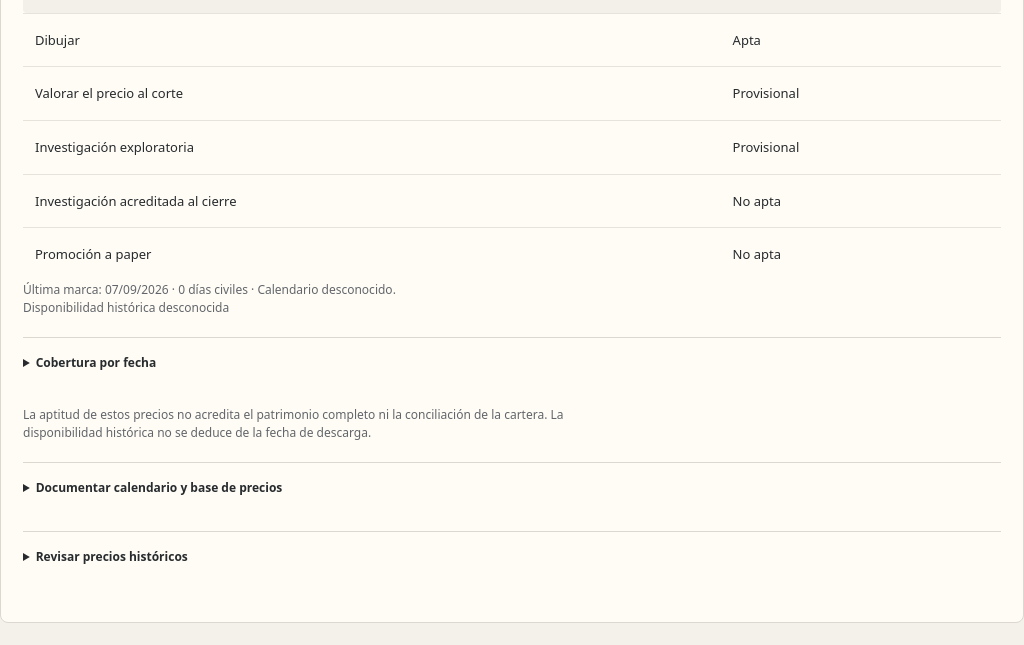
Test: un conflicto de confirmación exige nueva previsualización
The image size is (1024, 645).
(page scrolled)
What coordinates should you click on to do the following:
click the heading "Documentar calendario y base de precios"
I would click on:
 (159, 487)
Its box is [36,479,282,496].
(page scrolled)
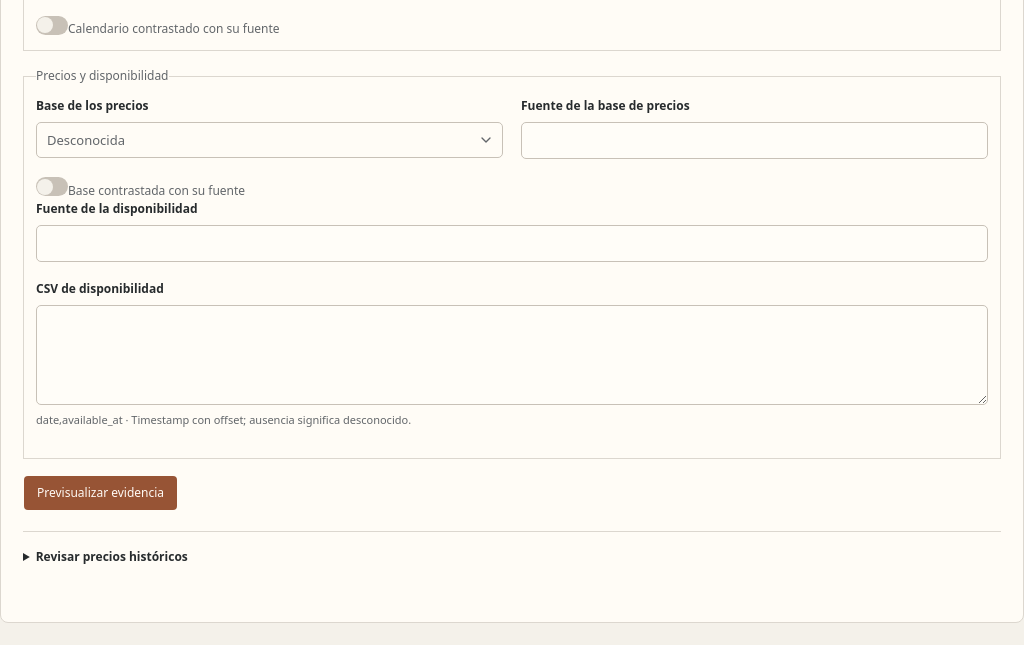
What coordinates should you click on to do the following:
click the button "Previsualizar evidencia"
I would click on:
 (101, 493)
Its box is [23,475,178,511].
(page scrolled)
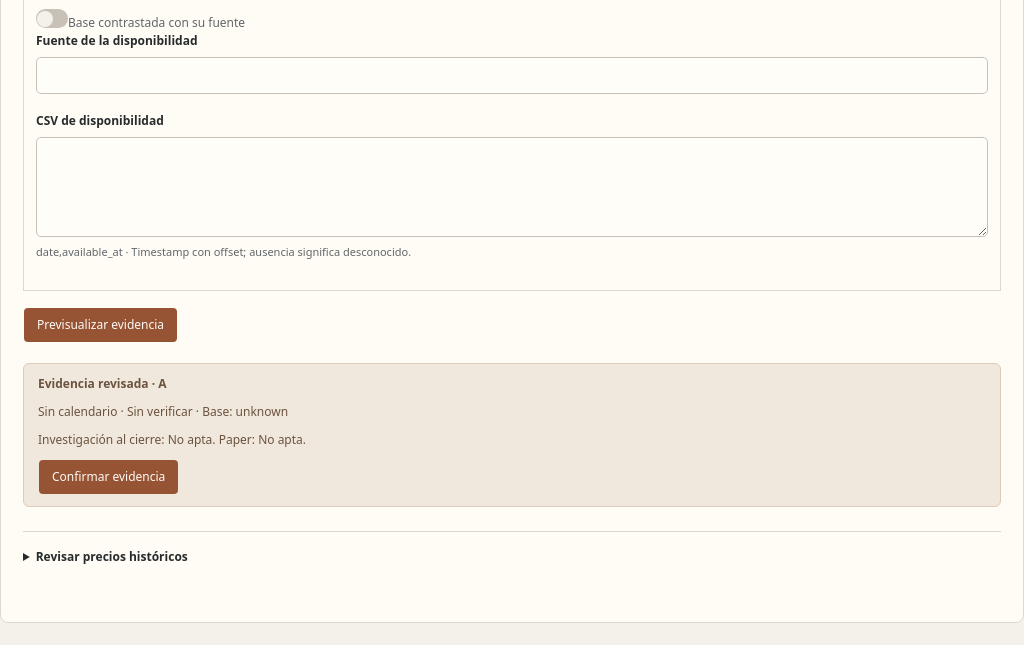
What coordinates should you click on to do the following:
click the button "Confirmar evidencia"
I would click on:
 (109, 477)
Its box is [38,459,179,495].
(page scrolled)
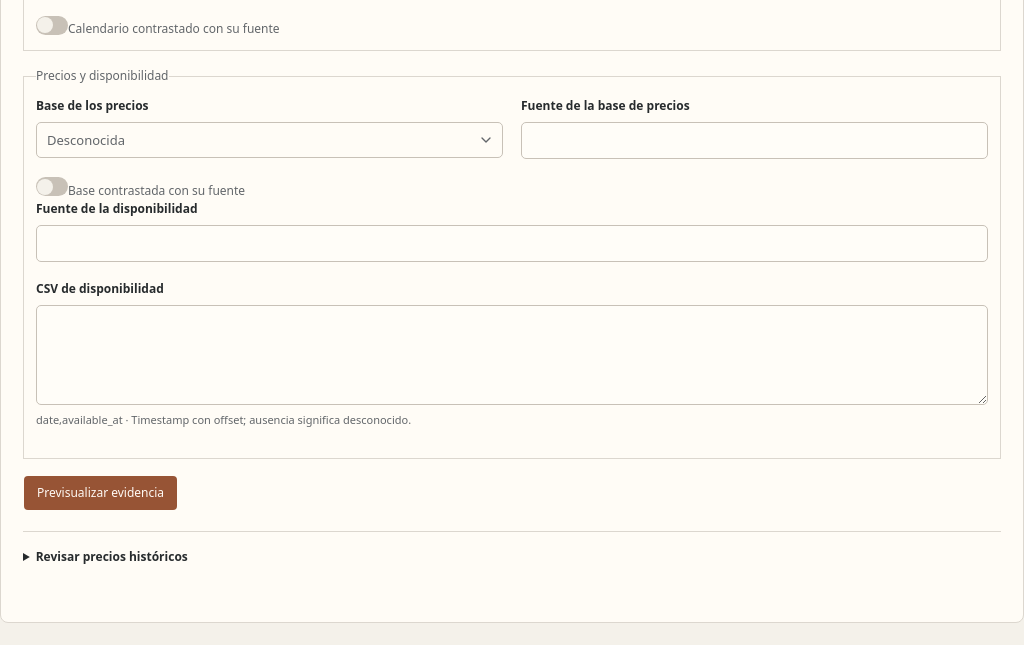
Check: the button "Confirmar evidencia" is gone
